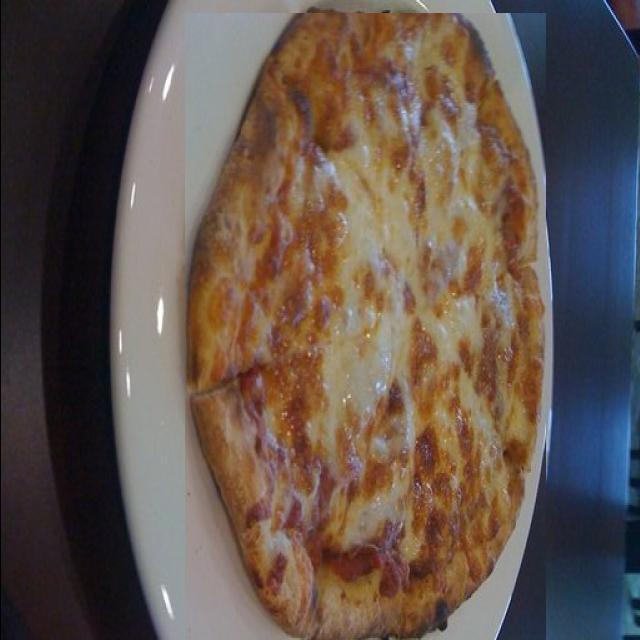pizza: (184, 13, 545, 640)
